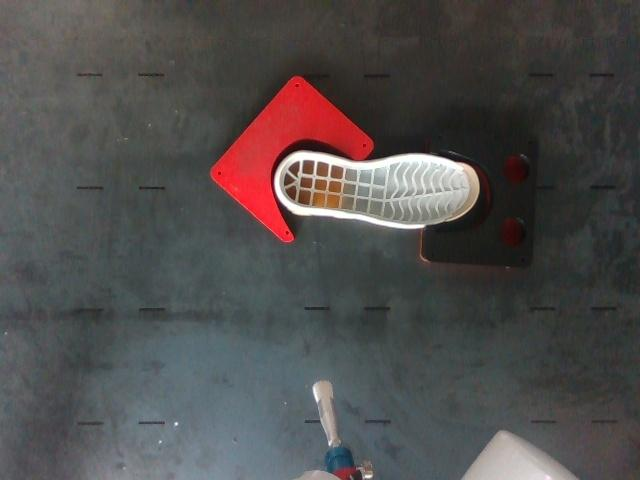shoes: (280, 152, 478, 224)
